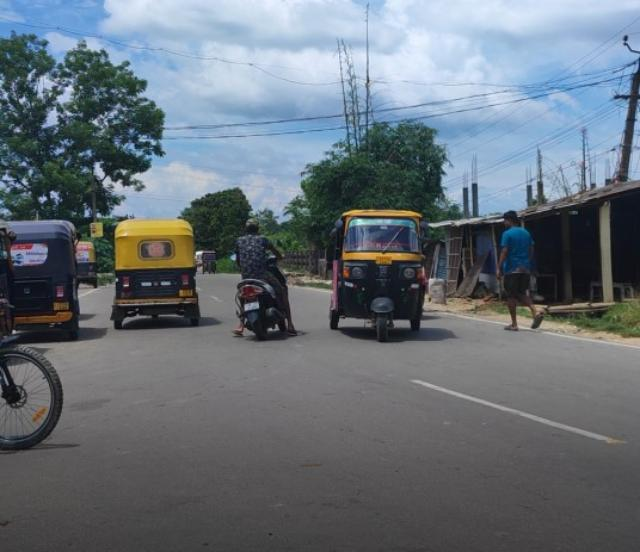licensePlate: (241, 301, 264, 312)
motorcycle: (237, 215, 298, 341)
withoutHelmet: (243, 220, 261, 236)
